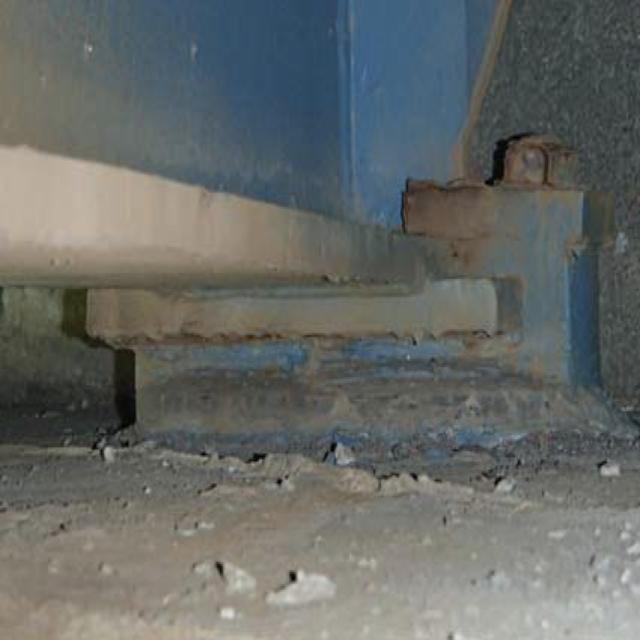corrosion: (360, 113, 597, 387)
